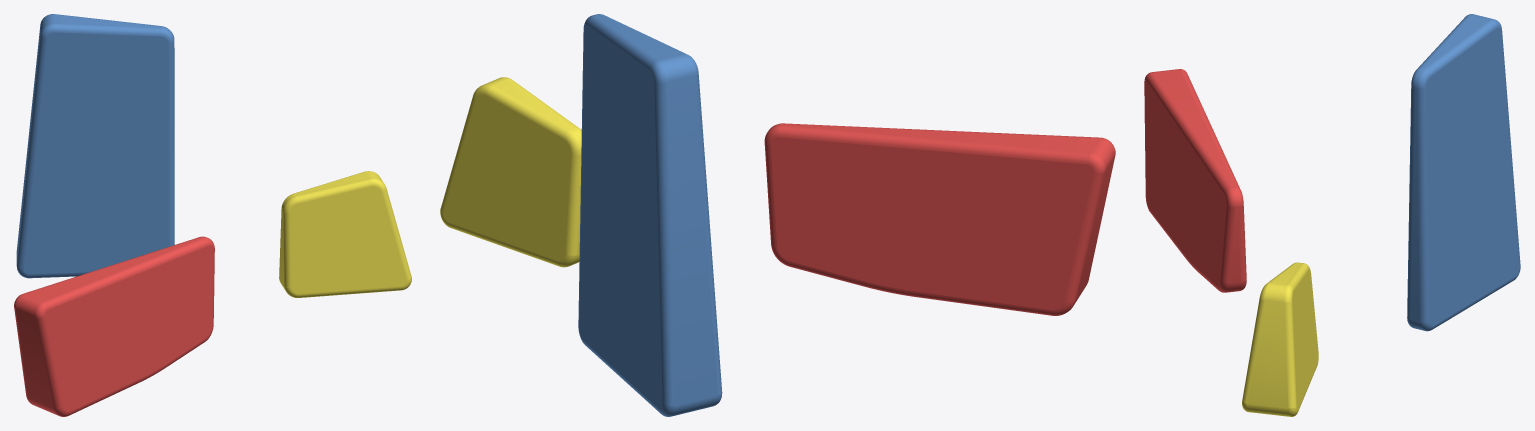
The model's file is sculpture.fbx.
The picture shows the model from 3 angles, left to right: view 1: azimuth 30°, elevation 25°; view 2: azimuth 150°, elevation 25°; view 3: azimuth 270°, elevation 25°; orthographic projection. The views are drawn at different scales.
Parts seen in each view (by area): view 1: Group1, Group2, Group3; view 2: Group2, Group1, Group3; view 3: Group1, Group2, Group3.
Boxes of the visible parts, left/top/right/bottom form: Group1: left=16, top=14, right=174, bottom=278; Group2: left=14, top=236, right=214, bottom=416; Group3: left=279, top=171, right=411, bottom=297; Group2: left=764, top=123, right=1115, bottom=315; Group1: left=578, top=14, right=722, bottom=416; Group3: left=440, top=77, right=581, bottom=267; Group1: left=1407, top=14, right=1520, bottom=331; Group2: left=1144, top=69, right=1246, bottom=292; Group3: left=1242, top=262, right=1318, bottom=416.
Size of the model in its own units: 378 by 208 by 263.
